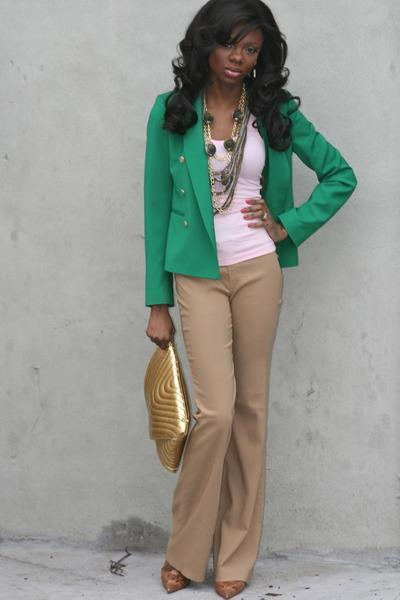bag: (144, 346, 210, 478)
jacket: (144, 91, 356, 316)
pants: (165, 252, 285, 587)
shirt: (208, 132, 275, 265)
shoe: (161, 564, 248, 599)
